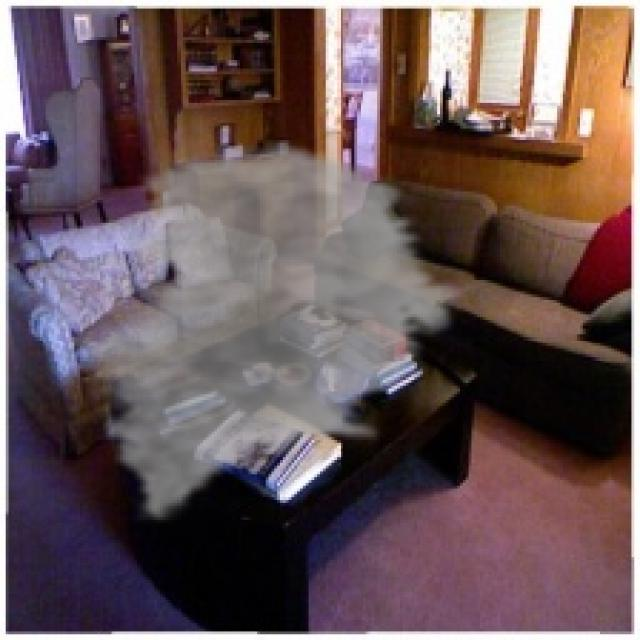smoke: (77, 140, 469, 526)
